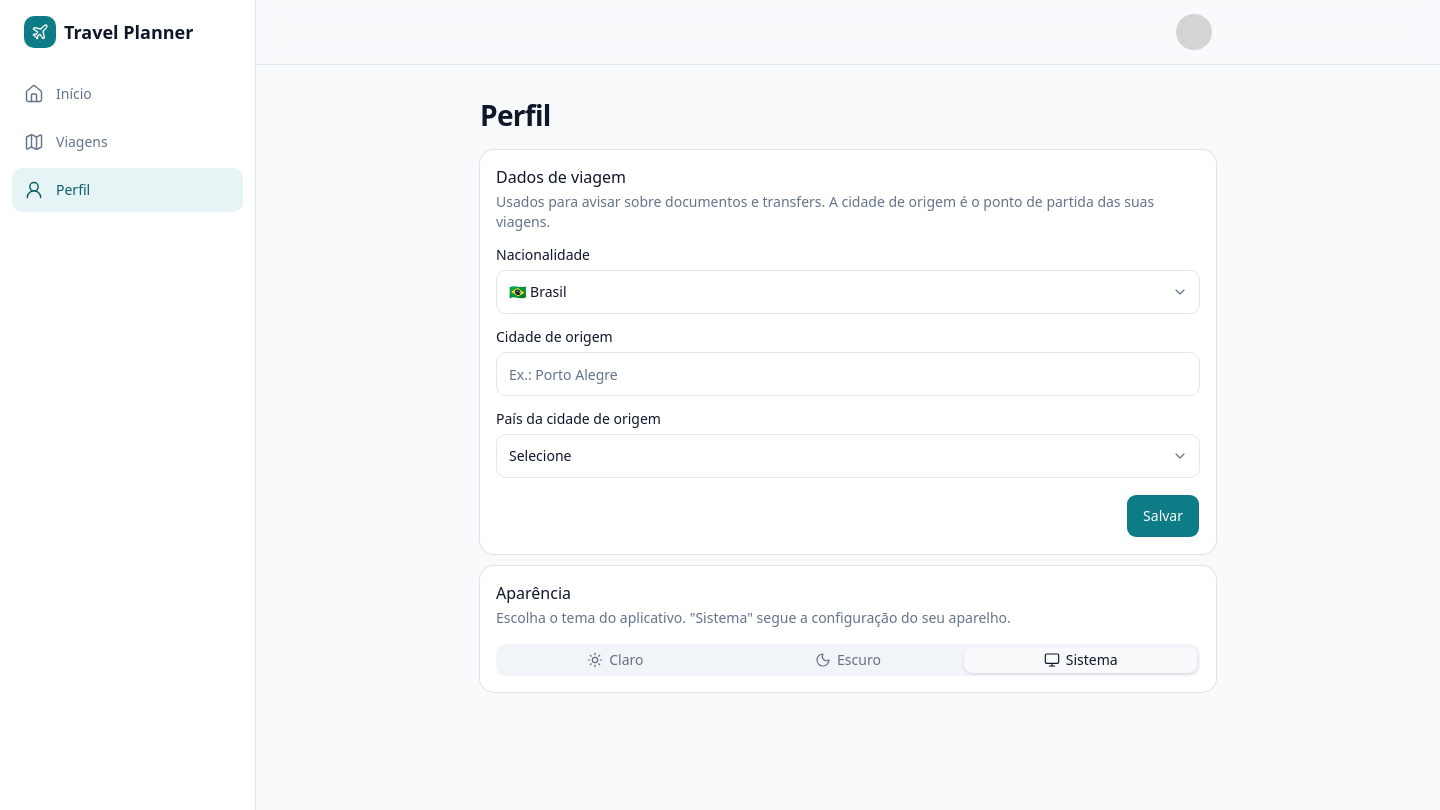
ProfileForm › salva nacionalidade e cidade de origem com a versão lida
The image size is (1440, 810).
Select "IT" in the dropdown labelled "Nacionalidade": (848, 292) [496,270,1200,314]
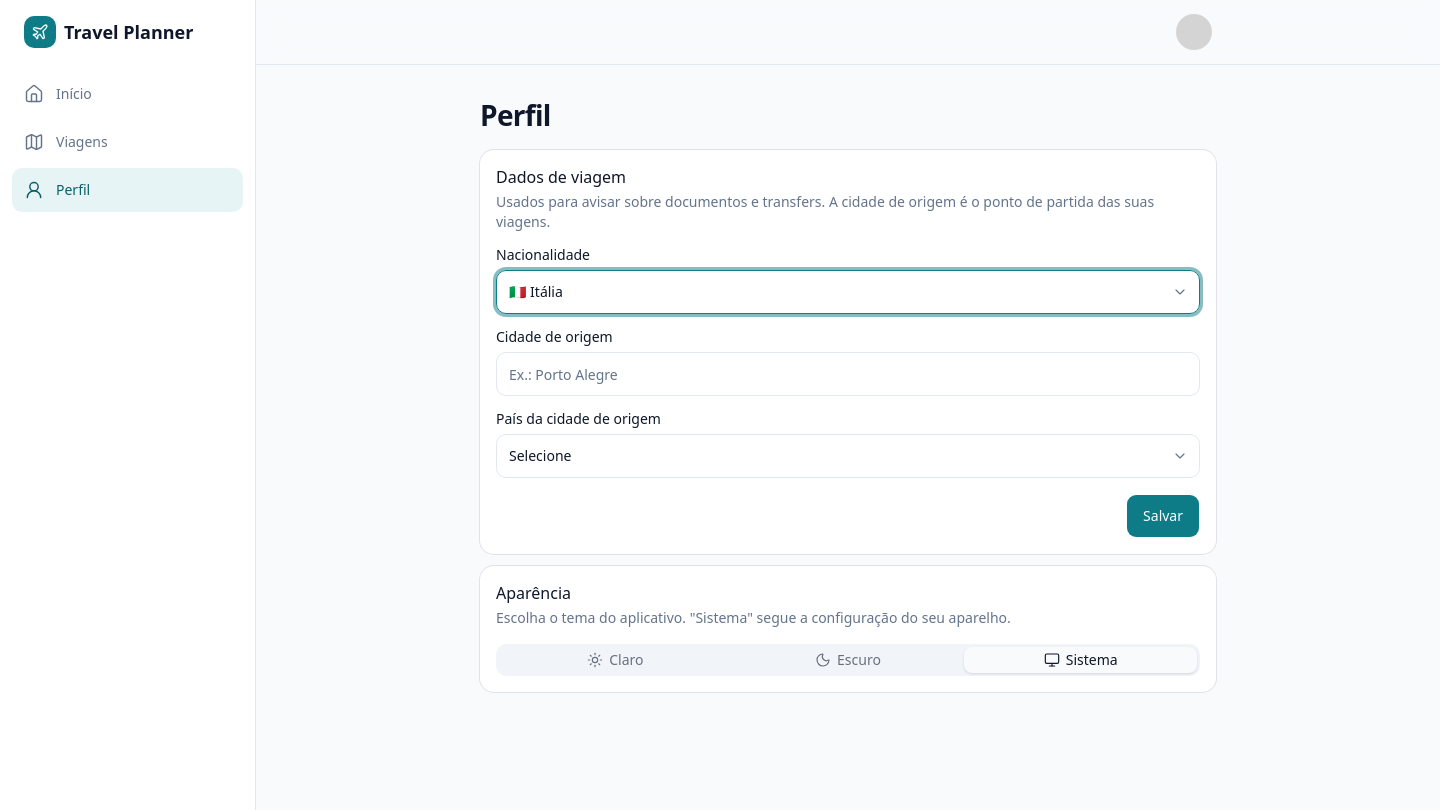
In the field labelled "Cidade de origem": (848, 374) [496,352,1200,396], type "  Curitiba "
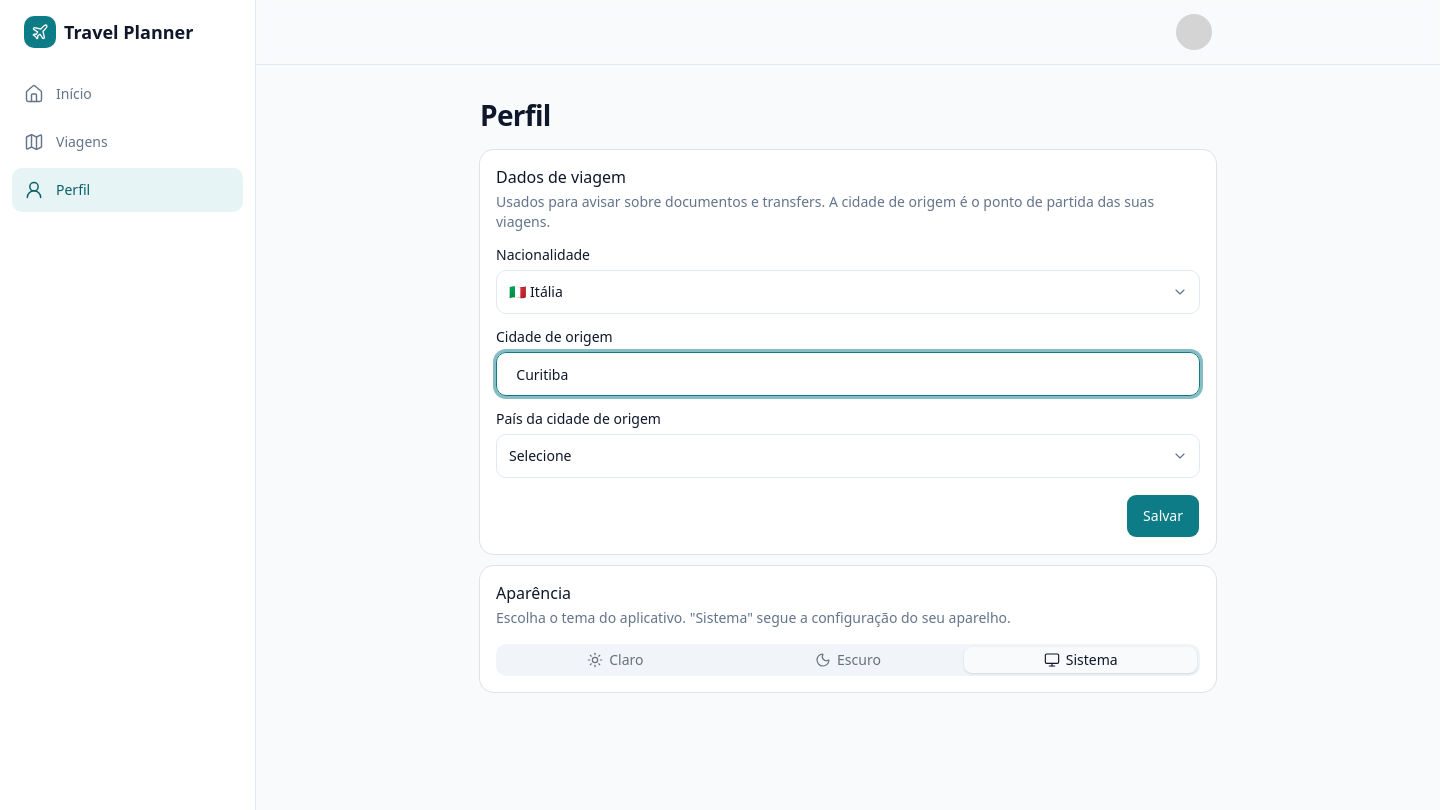
Select "🇧🇷 Brasil" in the dropdown labelled "País da cidade de origem": (848, 456) [496,434,1200,478]
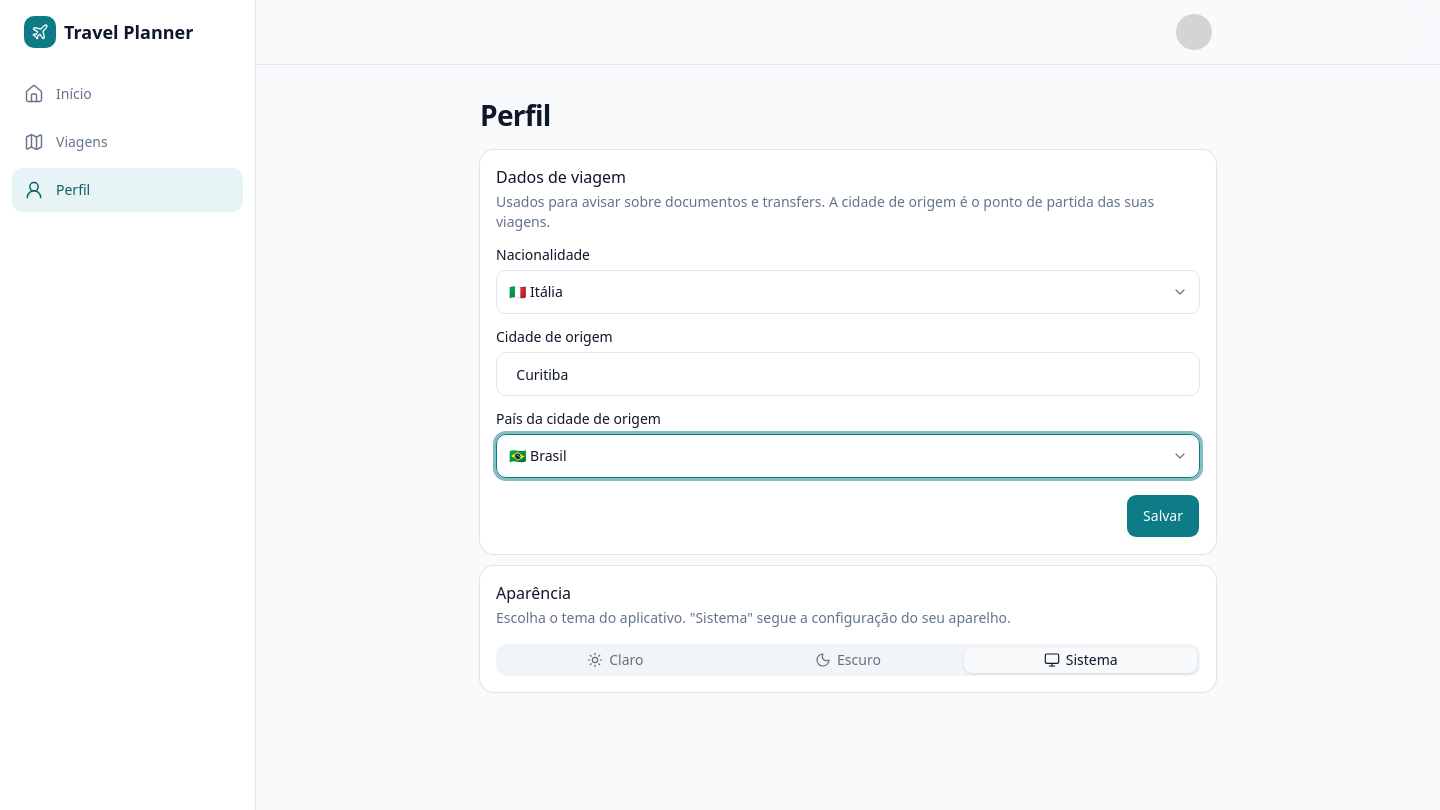
Click the button "Salvar": (1163, 516) [1126,494,1200,538]
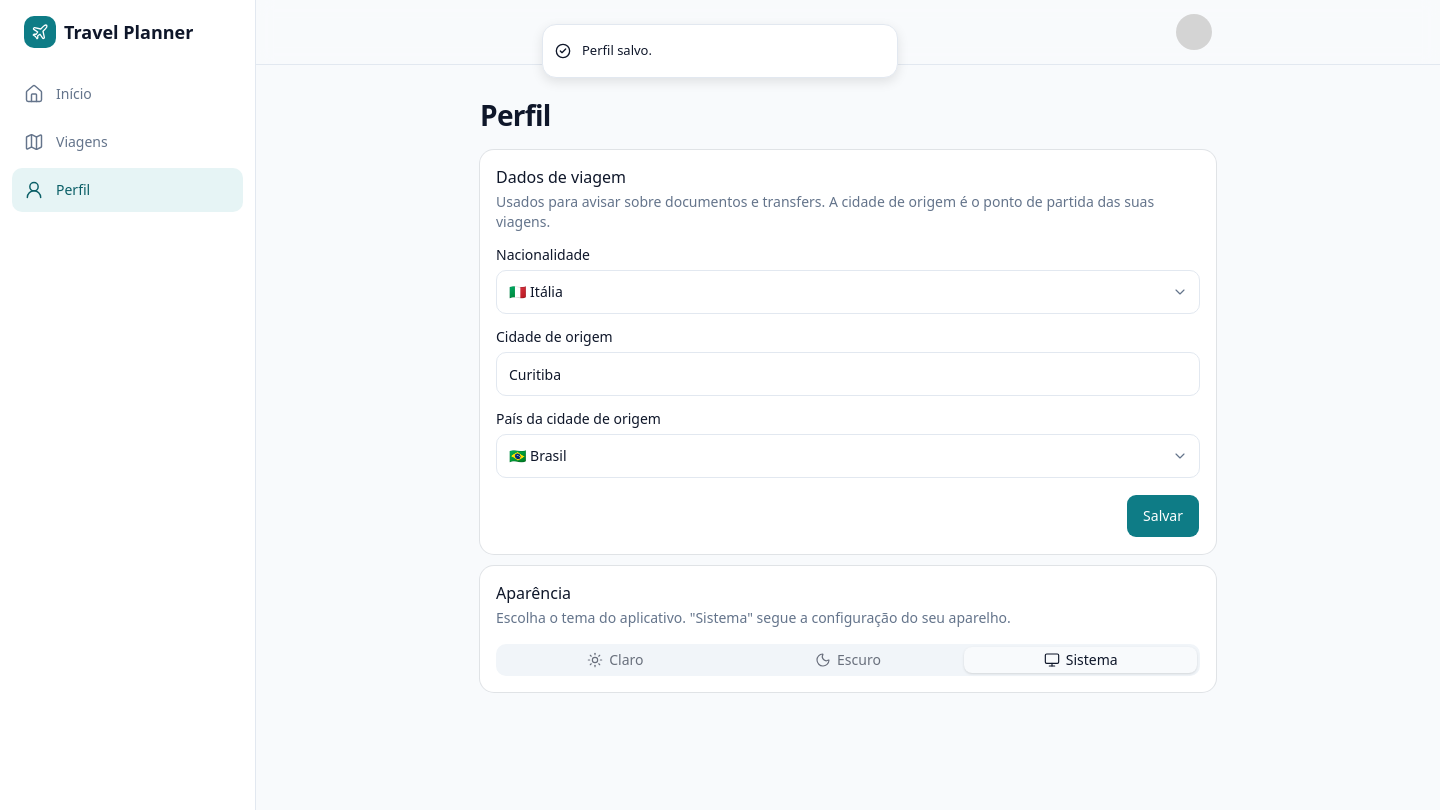
Expected: the text "Perfil salvo." is shown, [582,41,652,60]
